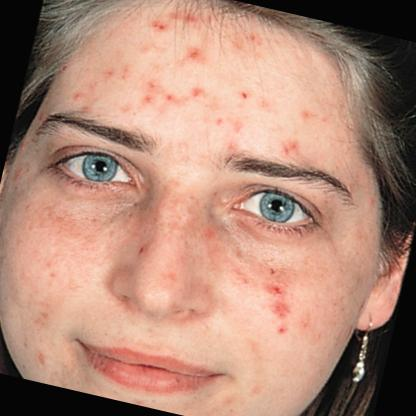Acne: (258, 279, 292, 305)
